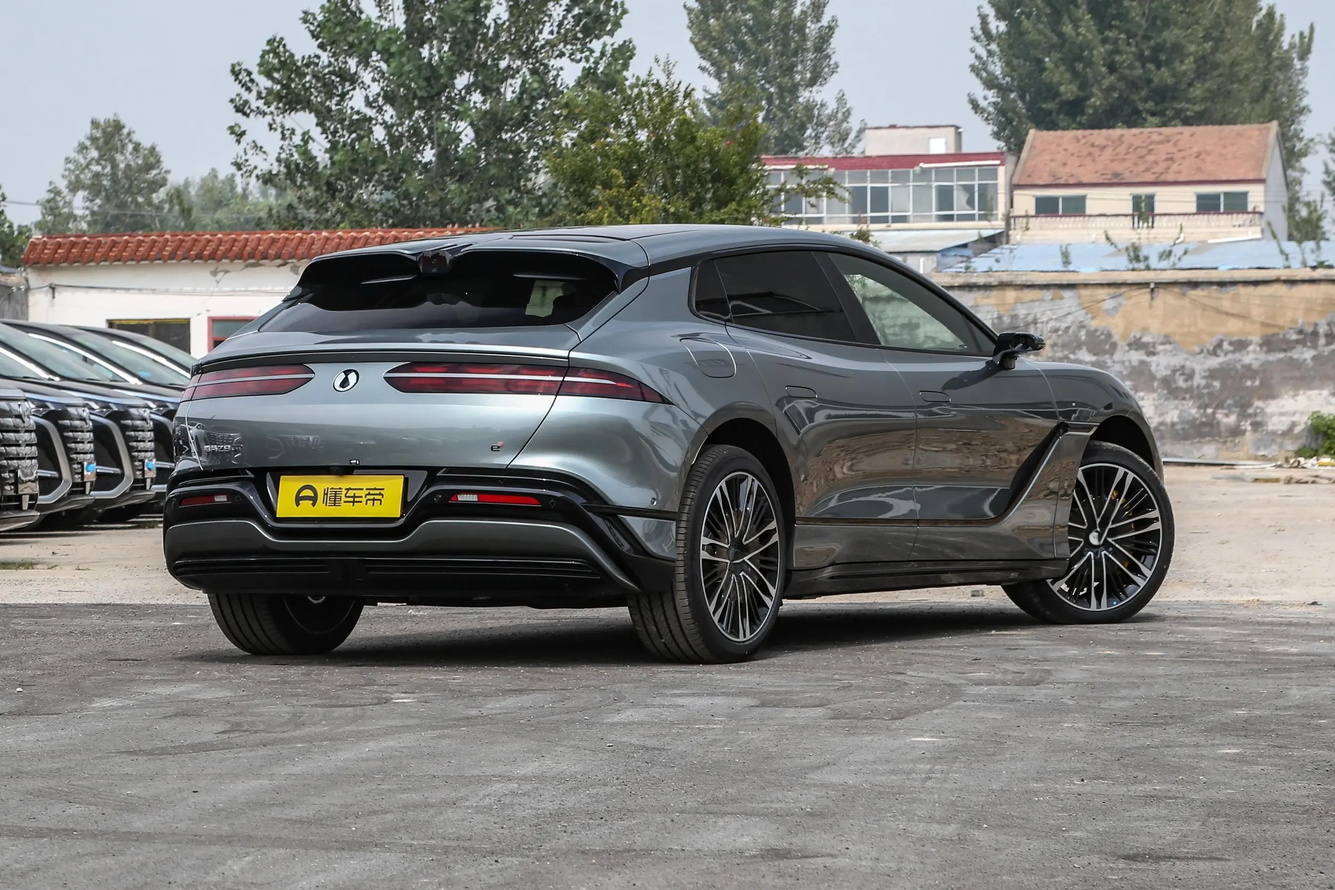DENZA: (335, 372, 356, 390)
